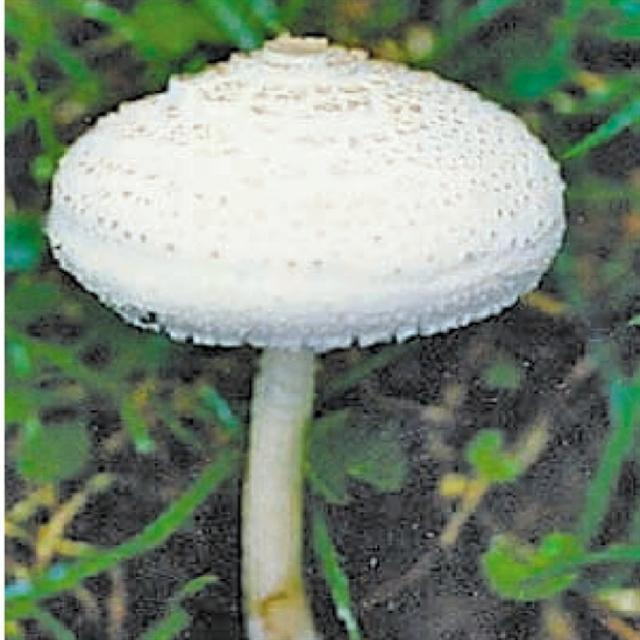Coprinus comatus: (47, 38, 566, 640)
